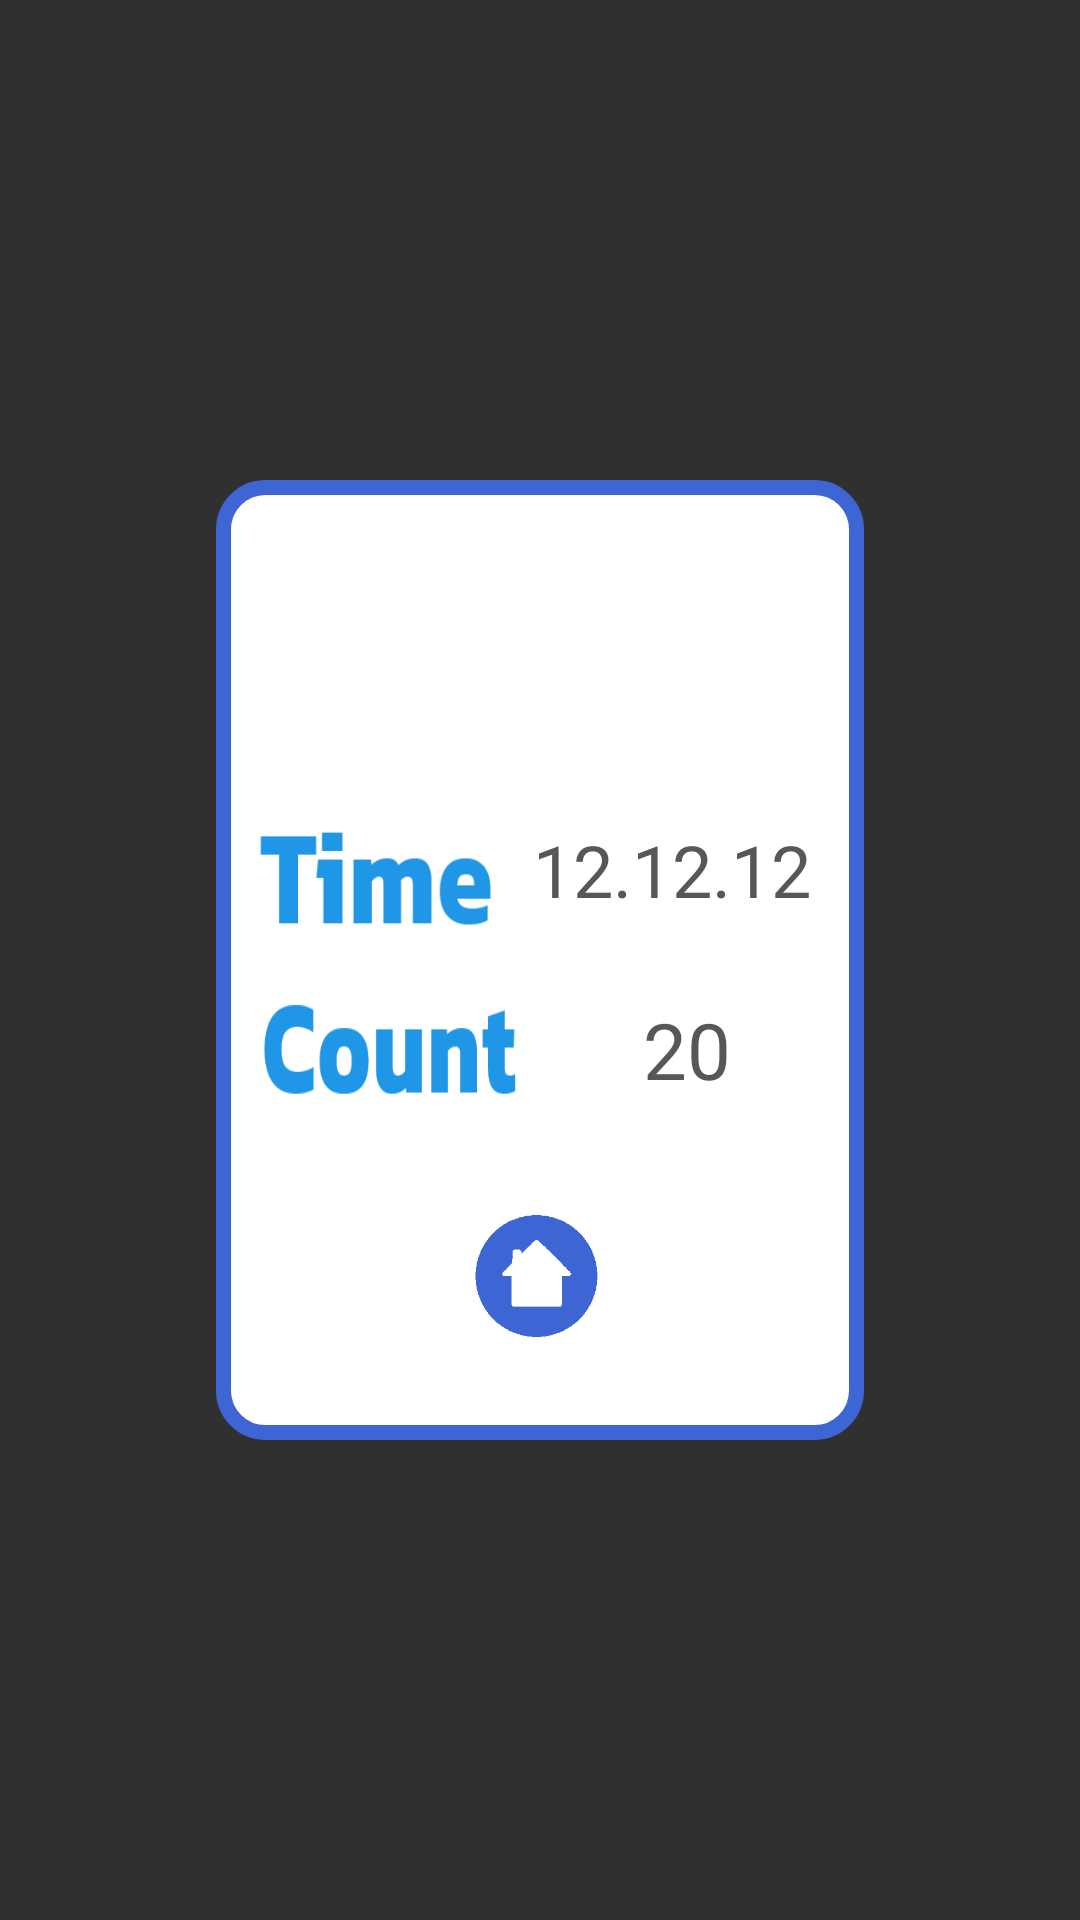

Icons on this 1080 x 1920 Android screen, each with the point to tap as (x,y):
home: (536,1276)
